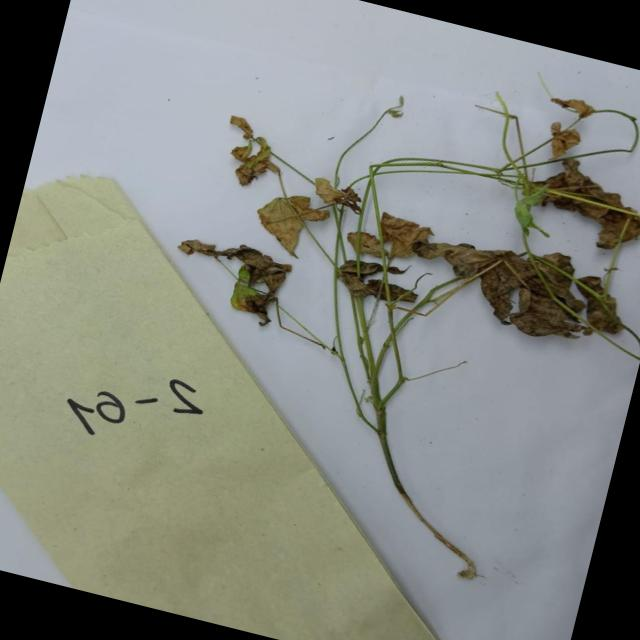Root: (388, 511, 509, 601)
Stem: (314, 306, 441, 502), (349, 110, 530, 212), (302, 150, 399, 321), (387, 264, 465, 344)
rooten_leaf: (200, 131, 367, 277), (470, 228, 591, 348), (522, 146, 640, 254), (373, 193, 506, 284), (165, 231, 296, 316), (328, 207, 418, 306), (561, 264, 633, 349), (530, 88, 601, 170)
